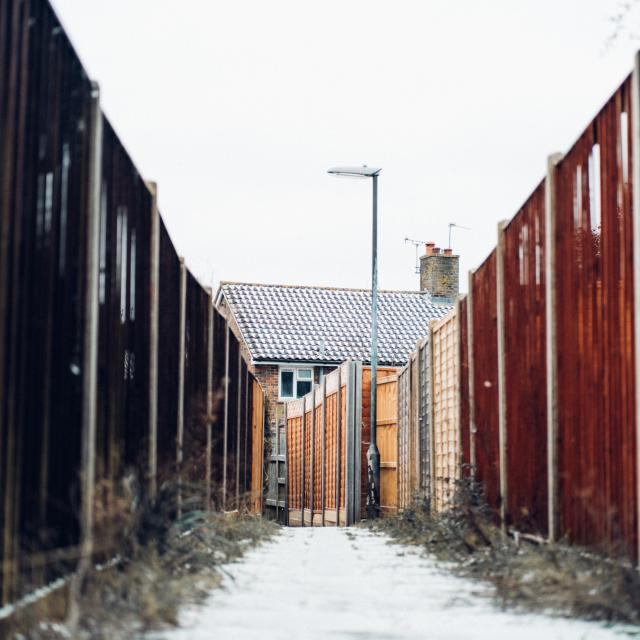Street Light: (327, 163, 387, 526)
